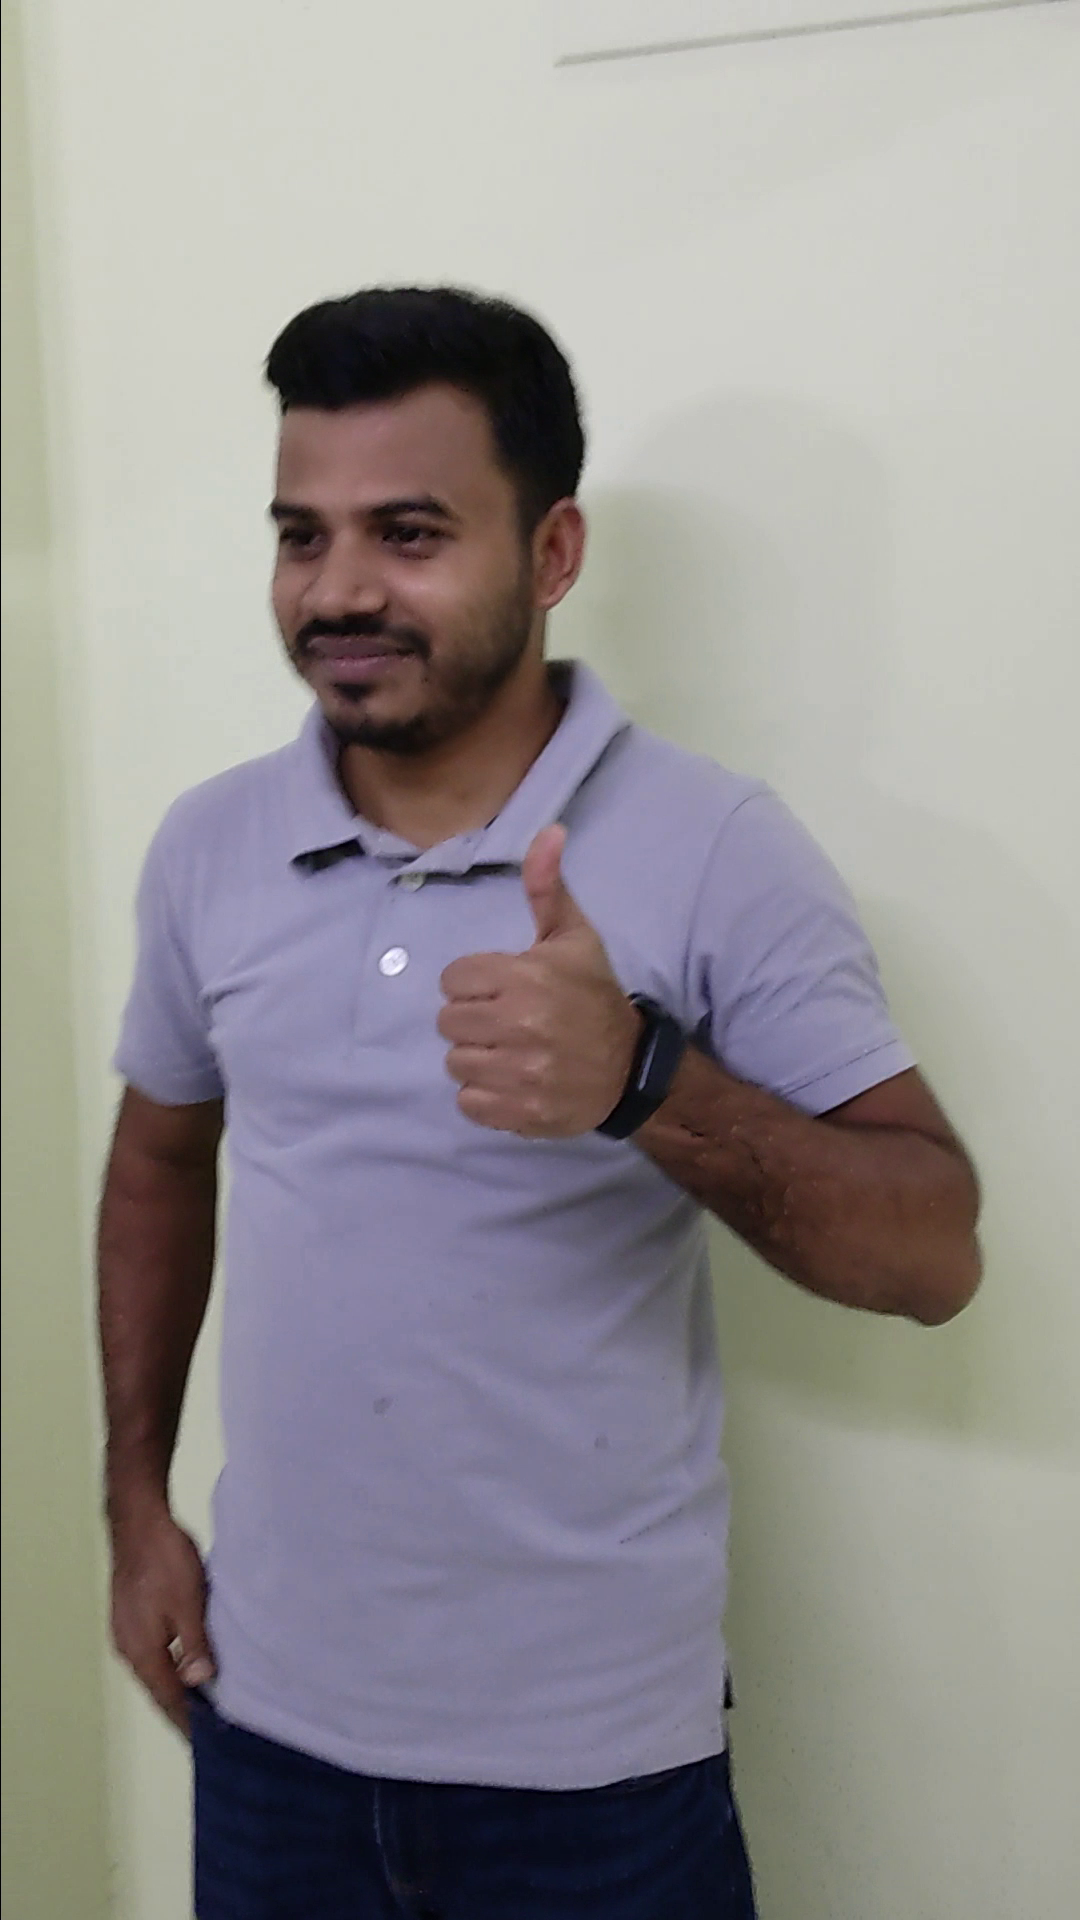Like: (423, 812, 662, 1153)
None: (79, 1458, 225, 1753)
